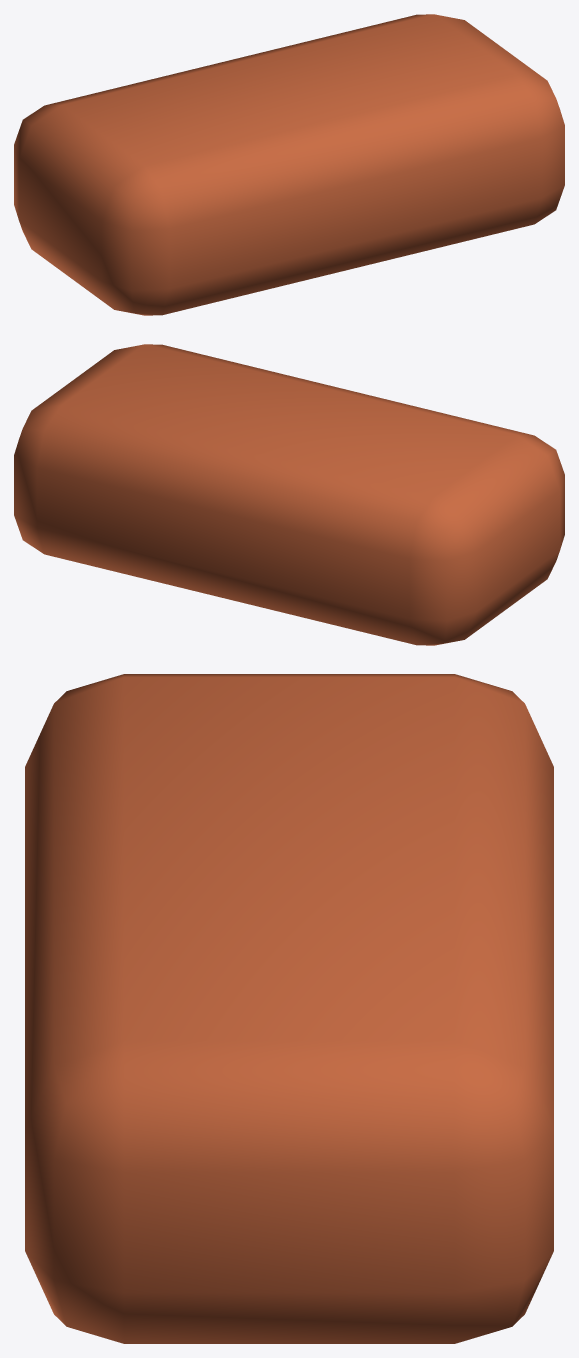
File: stud_welding_gun_trigger.glb
3 renders of one model, top to bottom at view 1: azimuth 30°, elevation 25°; view 2: azimuth 150°, elevation 25°; view 3: azimuth 270°, elevation 25°, orthographic. The views are drawn at different scales.
Parts seen in each view (by area): view 1: stud_welding_gun_trigger; view 2: stud_welding_gun_trigger; view 3: stud_welding_gun_trigger.
Boxes of the visible parts, x1,y1,x2,y2 form: stud_welding_gun_trigger: [14, 14, 564, 315]; stud_welding_gun_trigger: [14, 344, 564, 645]; stud_welding_gun_trigger: [25, 674, 553, 1343].
Size of the model in its own units: 0.032 by 0.01 by 0.016.
